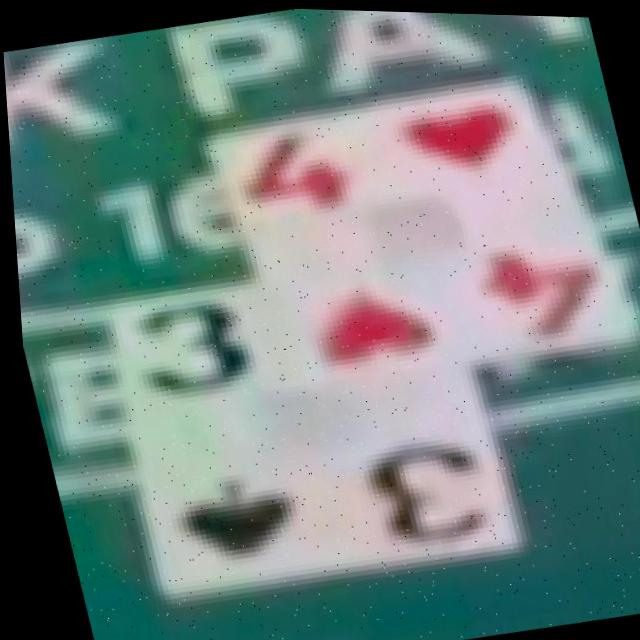Card-3: (112, 279, 511, 593)
Card-4: (205, 75, 635, 382)
